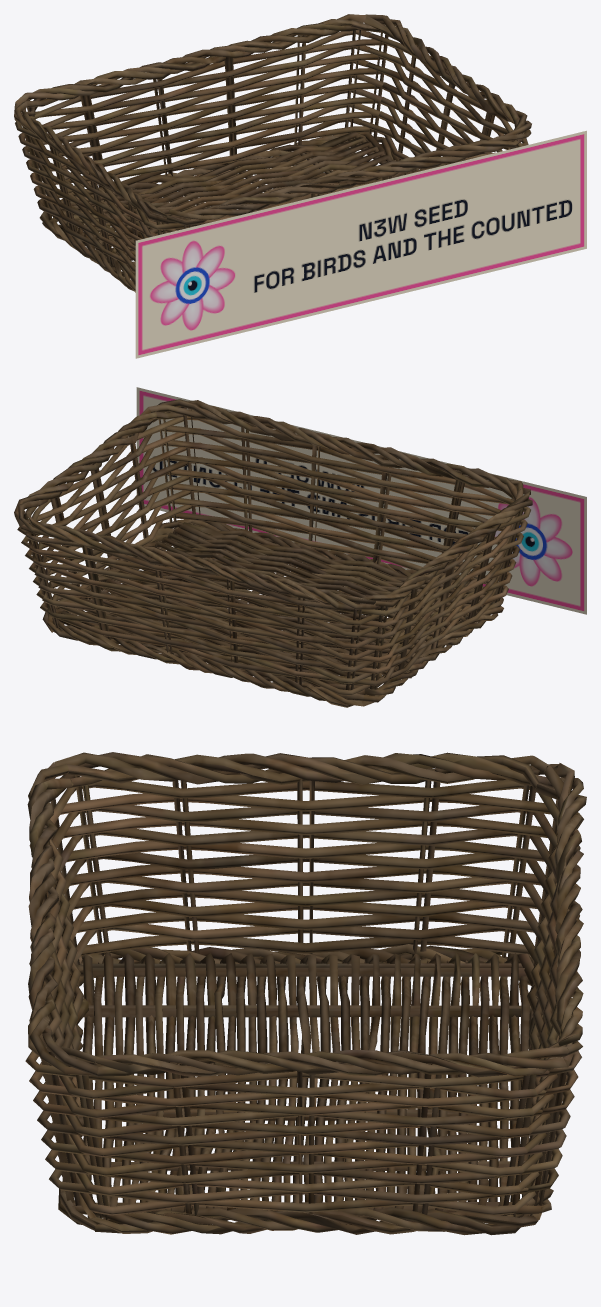
File: nyb_pigeons_seed.glb
3 views of the same model, one above another, from view 1: azimuth 30°, elevation 25°; view 2: azimuth 150°, elevation 25°; view 3: azimuth 270°, elevation 25° (orthographic). The views are drawn at different scales.
Visible parts, largest first — view 1: wicker_basket_01, add_lbl_24ed99f258.png; view 2: wicker_basket_01, add_lbl_24ed99f258.png; view 3: wicker_basket_01.
Part boxes in pixels (x1,y1,x2,y2): wicker_basket_01: (14, 14, 531, 292); add_lbl_24ed99f258.png: (135, 130, 586, 358); wicker_basket_01: (14, 399, 532, 707); add_lbl_24ed99f258.png: (136, 387, 586, 614); wicker_basket_01: (25, 752, 586, 1235).
Bounding box in the file's own units: 0.45 × 0.1211 × 0.3007.
Materials: 2 (2 with a texture image).
